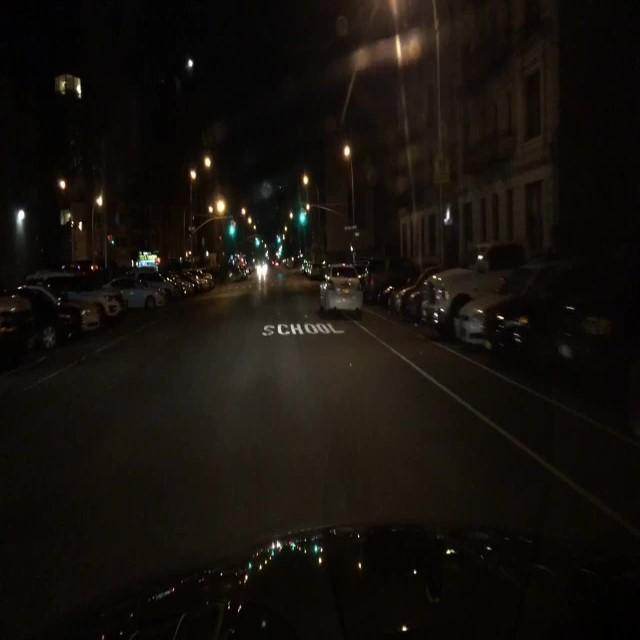normal: (18, 266, 127, 333), (425, 268, 512, 343), (0, 286, 76, 367), (108, 270, 171, 310), (320, 263, 365, 317)
